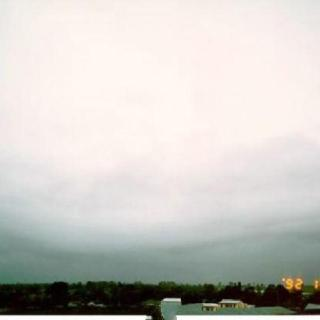Nimbostratus: (0, 0, 320, 288)
